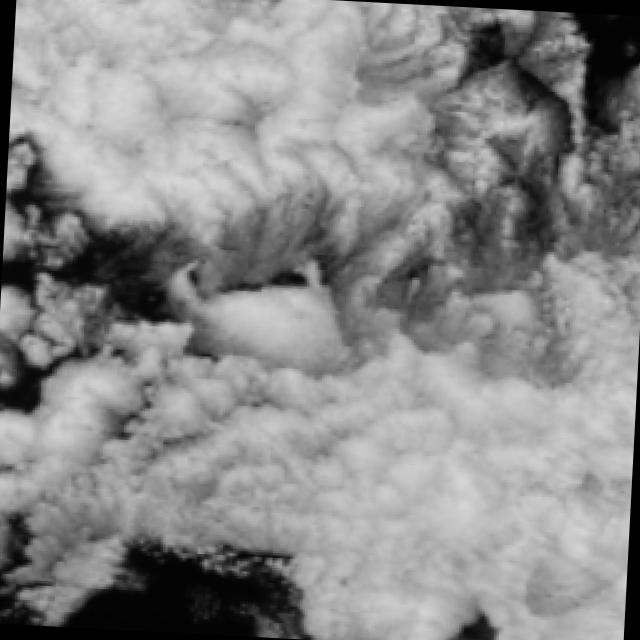CB: (322, 376, 608, 522)
